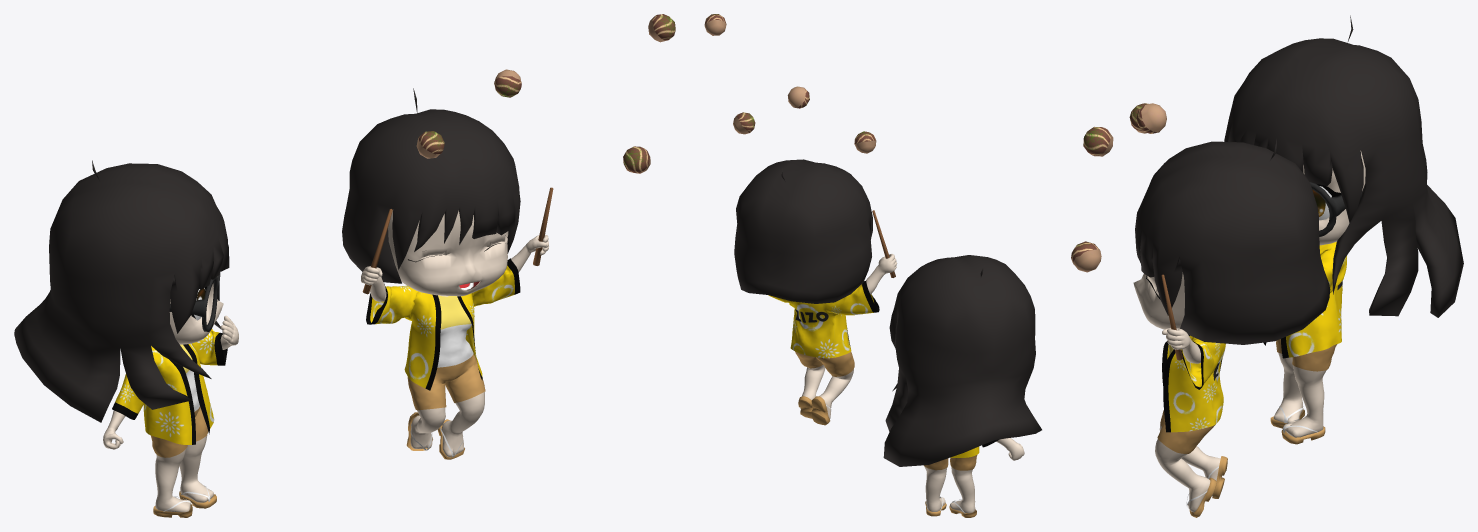
Rendered from Takoyaki_Girls.glb.
The picture shows the model from 3 angles, left to right: view 1: azimuth 30°, elevation 25°; view 2: azimuth 150°, elevation 25°; view 3: azimuth 270°, elevation 25°; orthographic projection. The views are drawn at different scales.
Visible parts, largest first — view 1: Takoyaki_Girl2, Takoyaki_Girl1; view 2: Takoyaki_Girl2, Takoyaki_Girl1, tako3, tako2, tako1, tako4; view 3: Takoyaki_Girl2, Takoyaki_Girl1, tako2, tako3, tako4.
Boxes of the visible parts, x1,y1,x2,y2 form: Takoyaki_Girl2: (14,160,238,517); Takoyaki_Girl1: (342,88,553,459); Takoyaki_Girl2: (883,255,1041,517); Takoyaki_Girl1: (734,159,897,425); tako3: (733,112,755,134); tako2: (787,86,809,108); tako1: (854,131,876,153); tako4: (704,14,726,35); Takoyaki_Girl2: (1224,15,1463,444); Takoyaki_Girl1: (1133,139,1330,517); tako2: (1136,103,1166,133); tako3: (1071,241,1101,272); tako4: (1083,126,1113,156).
Bounding box in the file's own units: 2.73 × 2.32 × 1.63.
Materials: 6 (6 with a texture image).
